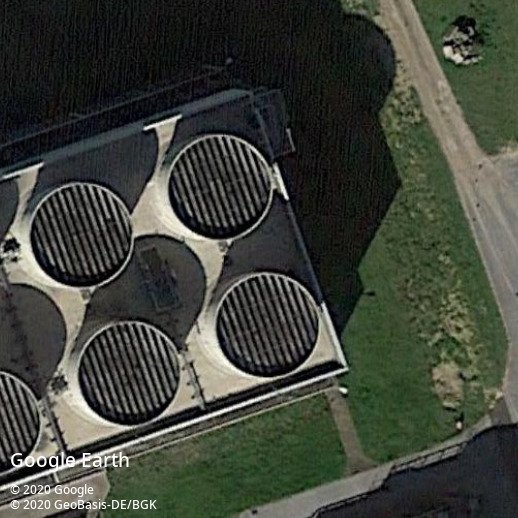Vent: (167, 134, 274, 241), (214, 272, 320, 380), (76, 321, 182, 429), (28, 183, 134, 289)
